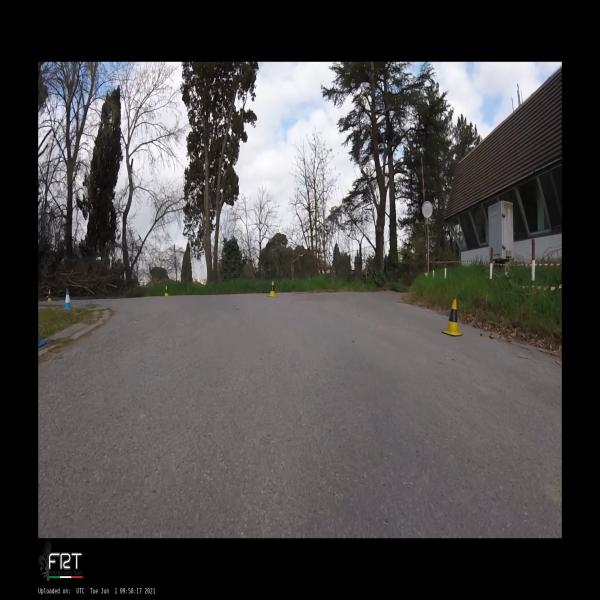blue_cone: (64, 289, 71, 309)
yellow_cone: (442, 298, 464, 336), (268, 280, 278, 298), (46, 289, 52, 302), (164, 286, 169, 296)
